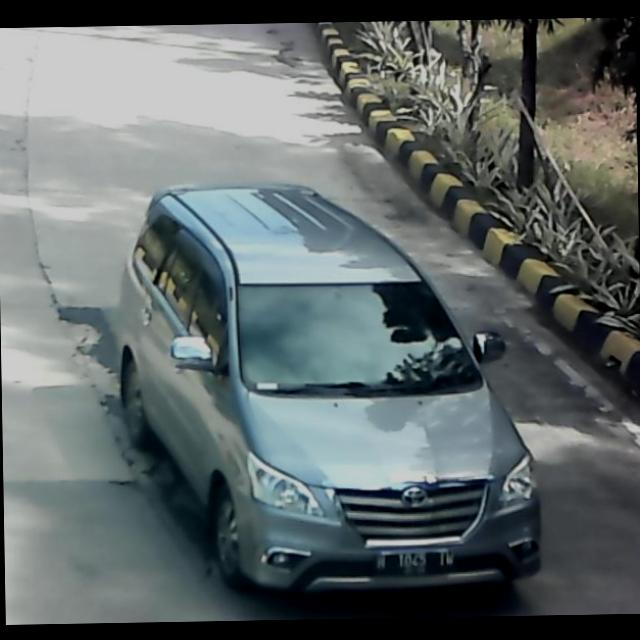plate: (372, 550, 456, 574)
